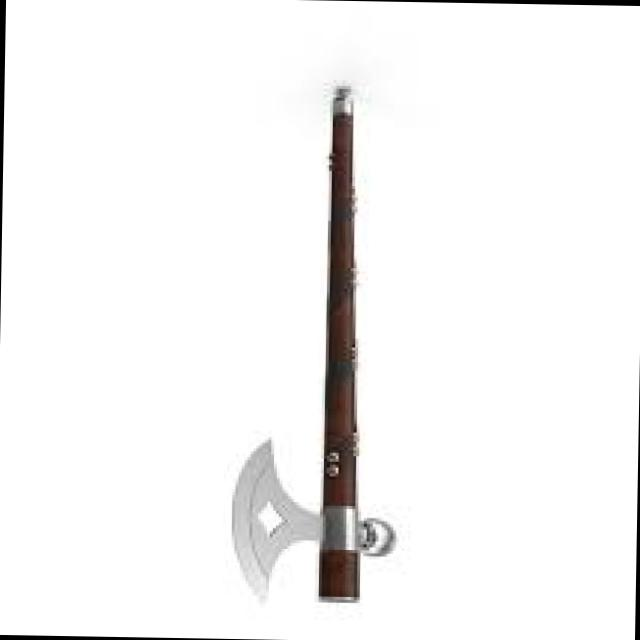Gun: (263, 66, 398, 615)
